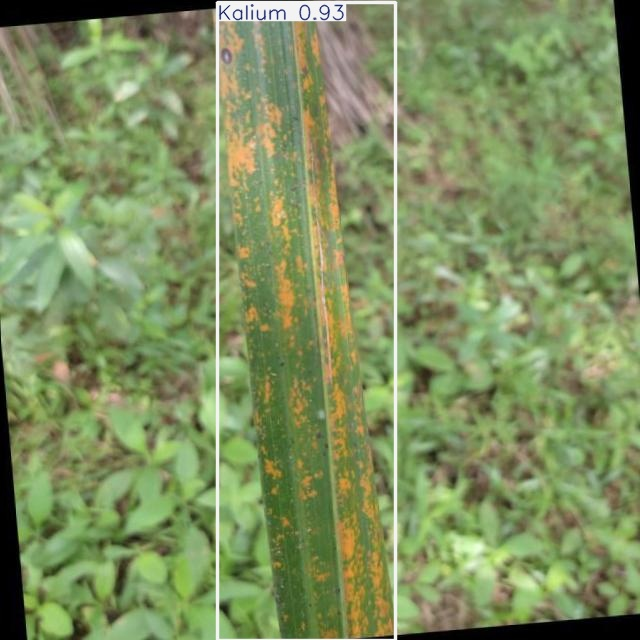Kalium: (218, 3, 396, 640)
